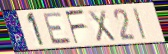1: (26, 12, 46, 48)
2: (113, 7, 137, 41)
E: (41, 11, 74, 46)
F: (64, 9, 88, 46)
I: (132, 7, 148, 41)
X: (86, 9, 118, 44)
